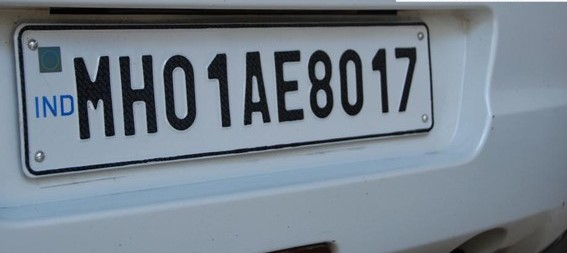MH01AE8017: (16, 22, 434, 174)
